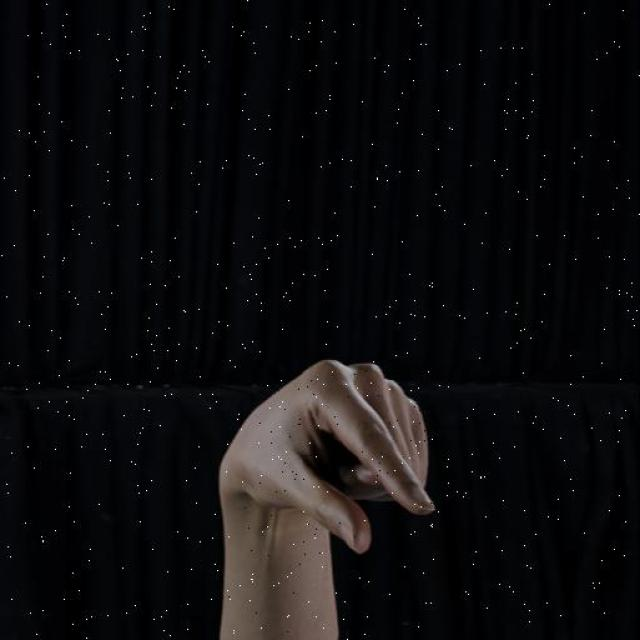Q: (217, 353, 439, 555)
